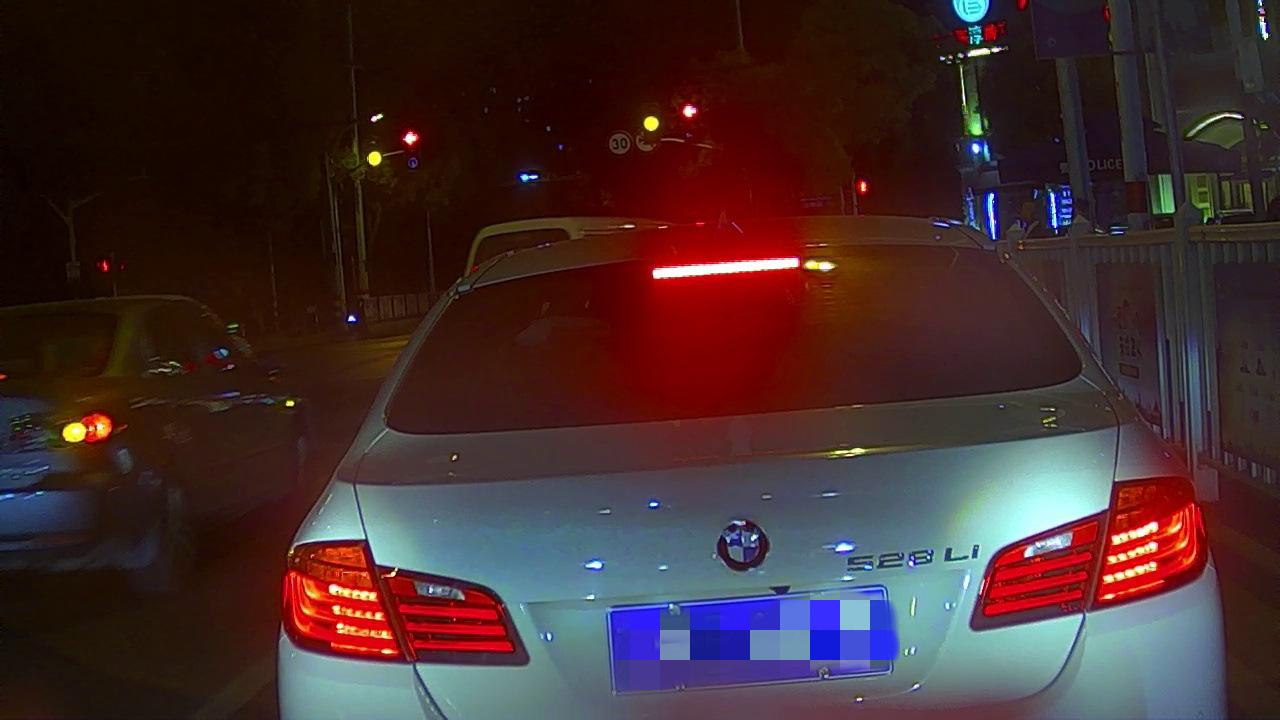traffic_light: (639, 111, 662, 135), (364, 147, 384, 170), (678, 100, 699, 121), (400, 127, 420, 149)
